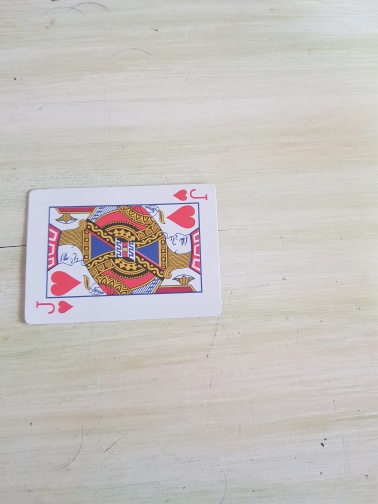jack: (23, 184, 222, 326)
